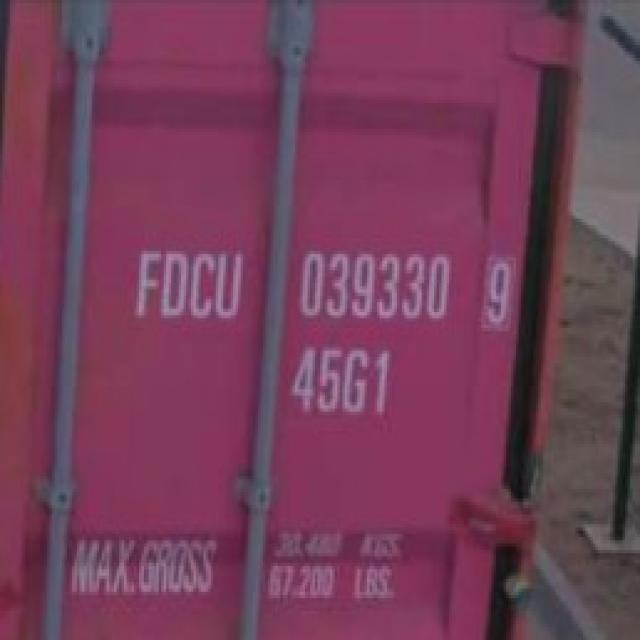dv: (475, 249, 514, 332)
owner: (129, 242, 246, 323)
serial: (294, 245, 452, 324)
size: (276, 341, 404, 426)
